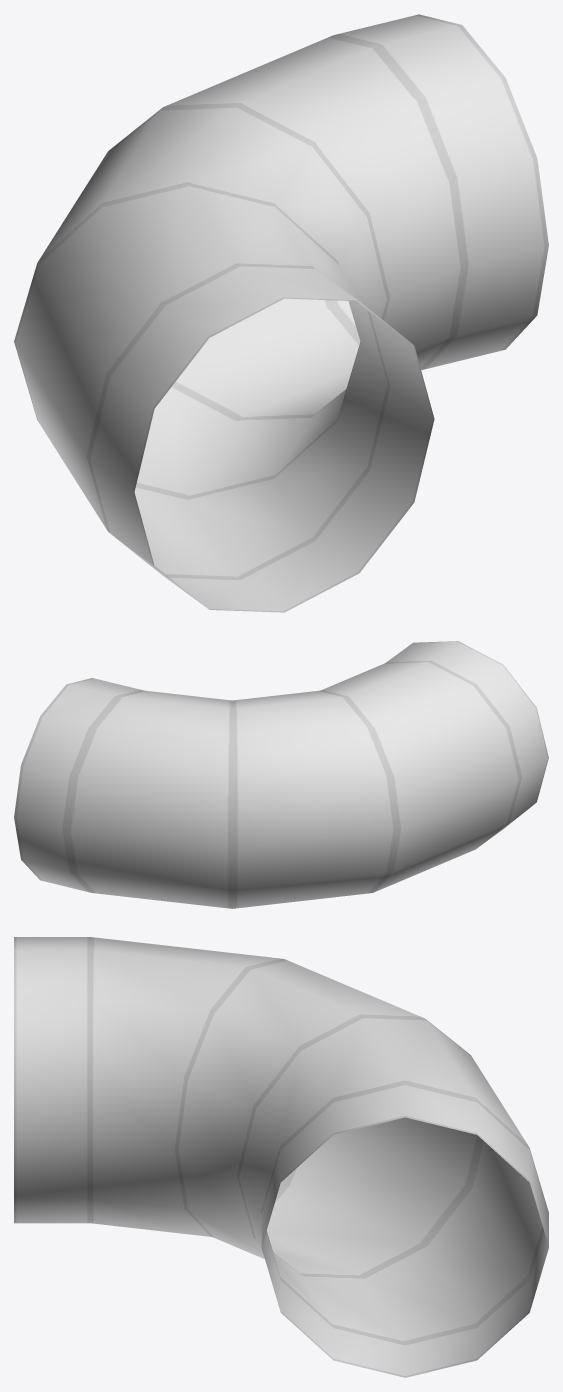
File: ventPipeCorner.fbx
3 views of the same model, one above another, from view 1: azimuth 30°, elevation 25°; view 2: azimuth 150°, elevation 25°; view 3: azimuth 270°, elevation 25° (orthographic). The views are drawn at different scales.
Visible parts, largest first — view 1: ventPipeCorner; view 2: ventPipeCorner; view 3: ventPipeCorner.
Part boxes in pixels (x1,y1,x2,y2): ventPipeCorner: (14,14,548,612); ventPipeCorner: (14,641,548,908); ventPipeCorner: (14,937,548,1377).
Bounding box in the file's own units: 0.7358 × 0.3916 × 0.7291.
